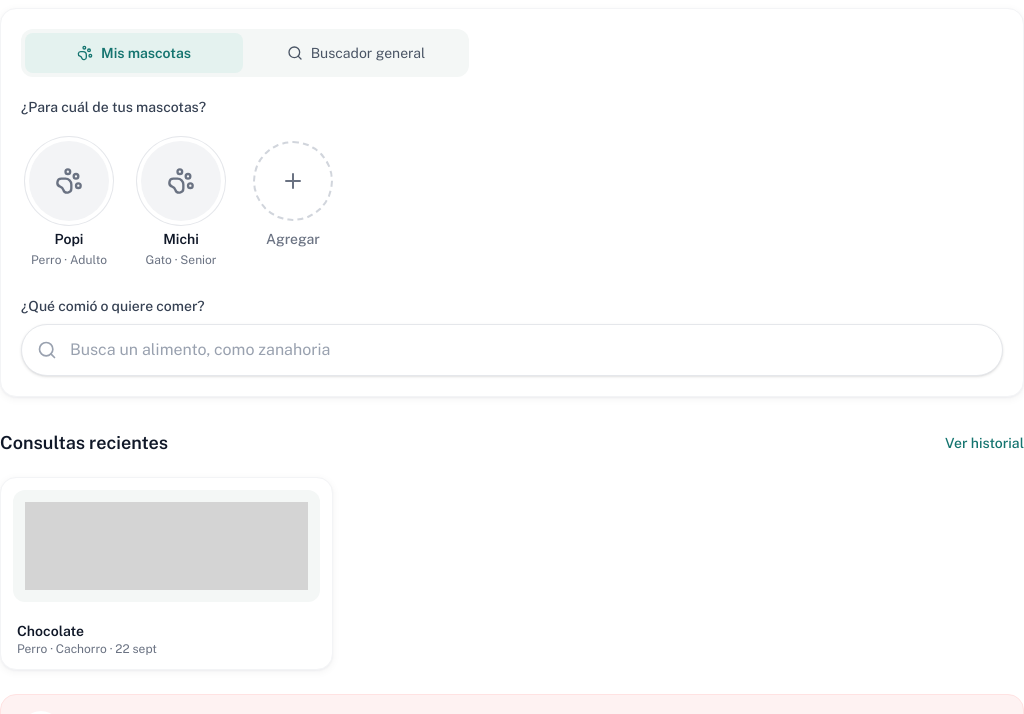
it: SearchPage › repeats a general consultation restoring its species and stage
(page scrolled)
Step 1. Click the button with aria-label "Consultar de nuevo Chocolate para Perro · Cachorro" → (167, 574), box [0,477,333,670]
(page scrolled)
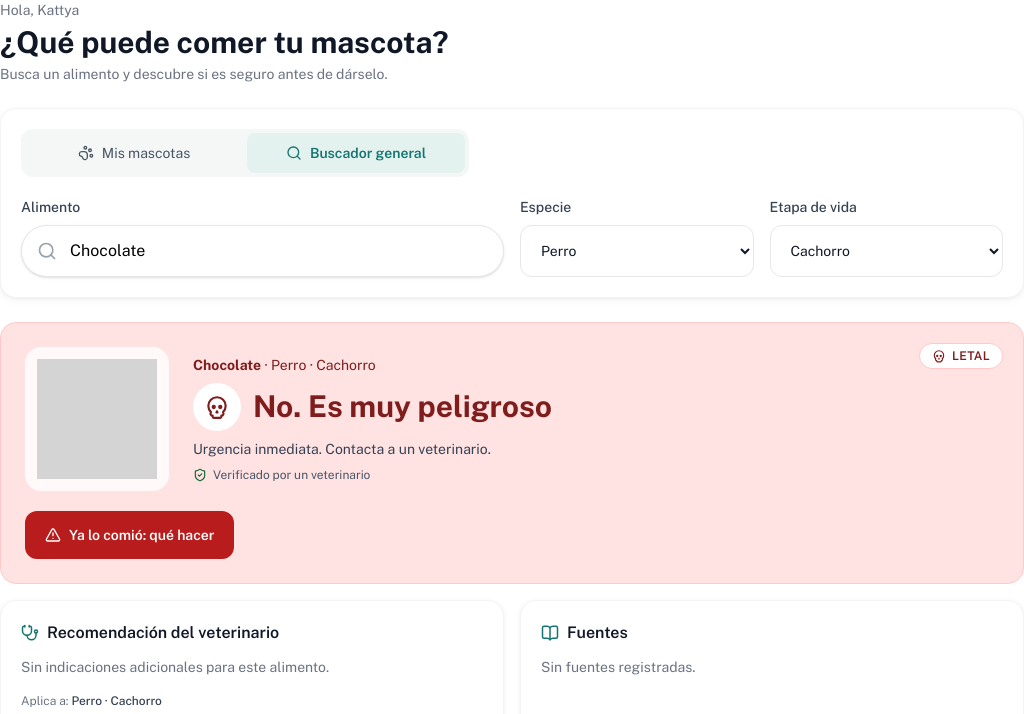
Now the dropdown labelled "Especie" shows "Perro", box [520,225,754,277]
Now the dropdown labelled "Etapa de vida" shows "Cachorro", box [770,225,1003,277]
Now the heading "No. Es muy peligroso" is shown, box [253,388,552,426]
